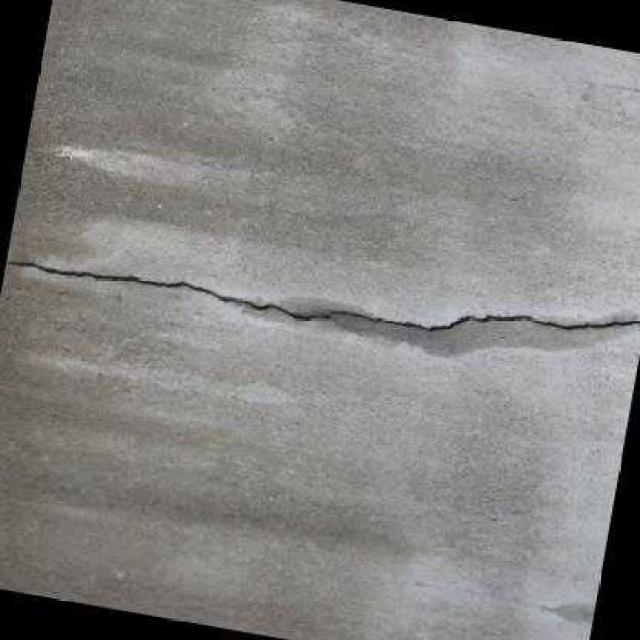D00: (5, 256, 640, 329)
